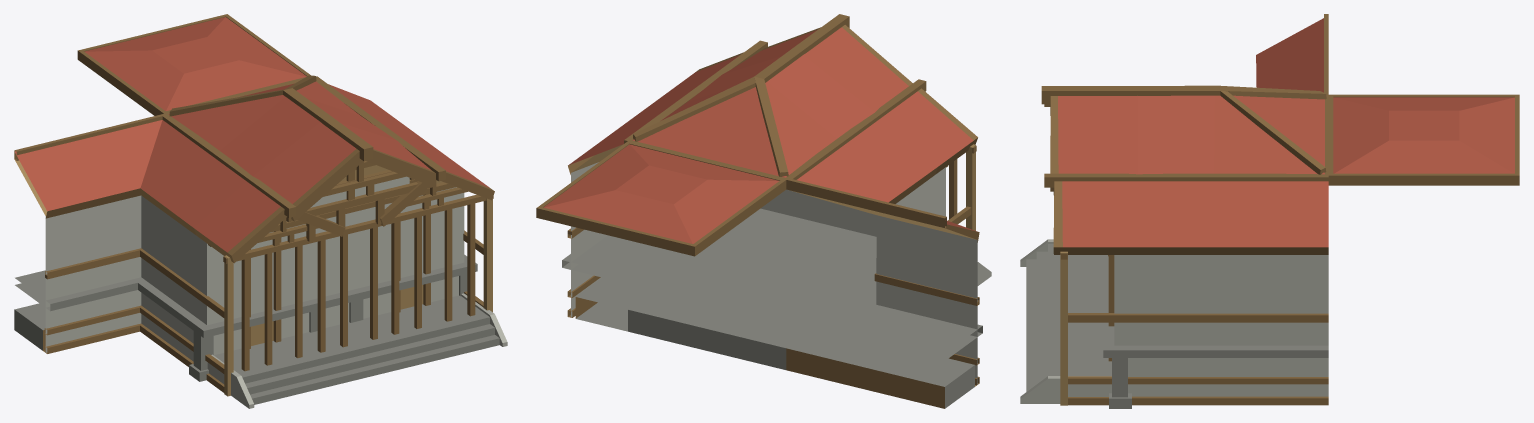
Rendered from Buildings_Barracks.fbx.
The picture shows the model from 3 angles, left to right: view 1: azimuth 30°, elevation 25°; view 2: azimuth 150°, elevation 25°; view 3: azimuth 270°, elevation 25°; orthographic projection. The views are drawn at different scales.
Parts seen in each view (by area): view 1: Barracks_Top_InCorner, Barracks_Top_Side_Entrance, Barrack_Bot_Side_Entrance, Barrack_Bot_InCorner, Barracks_Top_Full, Barracks_Top_SlantedRoof, Barracks_Top_Corner, Barrack_Bot_Corner, Barrack_Bot_Corner_Mirrored, Barracks_Top_Corner_Mirrored, Barracks_Top_Side; view 2: Barrack_Bot_Full, Barrack_Bot_InCorner, Barracks_Top_SlantedRoof, Barracks_Top_InCorner, Barracks_Top_Full, Barrack_Bot_Side, Barracks_Top_Side_Entrance, Barracks_Top_Corner, Barrack_Bot_Side_Entrance, Barracks_Top_Side, Barracks_Top_Corner_Mirrored, Barrack_Bot_Corner; view 3: Barracks_Top_Side, Barracks_Top_Full, Barracks_Top_SlantedRoof, Barrack_Bot_Side, Barracks_Top_Corner_Mirrored, Barracks_Top_Side_Entrance, Barrack_Bot_Corner_Mirrored, Barrack_Bot_Side_Entrance, Barracks_Top_InCorner, Barrack_Bot_Corner.
Part boxes in pixels (<box>): Barracks_Top_InCorner: <box>14,114,249,292</box>; Barracks_Top_Side_Entrance: <box>251,115,442,300</box>; Barrack_Bot_Side_Entrance: <box>261,250,450,393</box>; Barrack_Bot_InCorner: <box>14,253,196,366</box>; Barracks_Top_Full: <box>77,14,310,115</box>; Barracks_Top_SlantedRoof: <box>164,75,399,176</box>; Barracks_Top_Corner: <box>193,177,292,318</box>; Barrack_Bot_Corner: <box>188,286,300,408</box>; Barrack_Bot_Corner_Mirrored: <box>410,237,507,356</box>; Barracks_Top_Corner_Mirrored: <box>400,139,494,264</box>; Barracks_Top_Side: <box>316,76,455,162</box>; Barrack_Bot_Full: <box>628,216,876,369</box>; Barrack_Bot_InCorner: <box>786,249,982,408</box>; Barracks_Top_SlantedRoof: <box>628,47,877,179</box>; Barracks_Top_InCorner: <box>786,113,979,302</box>; Barracks_Top_Full: <box>536,141,786,256</box>; Barrack_Bot_Side: <box>562,229,664,331</box>; Barracks_Top_Side_Entrance: <box>719,14,921,112</box>; Barracks_Top_Corner: <box>878,80,977,223</box>; Barrack_Bot_Side_Entrance: <box>750,189,876,247</box>; Barracks_Top_Side: <box>567,73,718,234</box>; Barracks_Top_Corner_Mirrored: <box>660,40,763,98</box>; Barrack_Bot_Corner: <box>949,204,991,285</box>; Barracks_Top_Side: <box>1137,175,1328,318</box>; Barracks_Top_Full: <box>1328,94,1519,185</box>; Barracks_Top_SlantedRoof: <box>1137,85,1328,175</box>; Barrack_Bot_Side: <box>1137,318,1328,405</box>; Barracks_Top_Corner_Mirrored: <box>1044,175,1137,318</box>; Barracks_Top_Side_Entrance: <box>1041,86,1137,195</box>; Barrack_Bot_Corner_Mirrored: <box>1020,297,1137,408</box>; Barrack_Bot_Side_Entrance: <box>1026,255,1108,366</box>; Barracks_Top_InCorner: <box>1256,14,1328,94</box>; Barrack_Bot_Corner: <box>1020,239,1103,285</box>.
Bounding box in the file's own units: 485 × 284 × 523.
